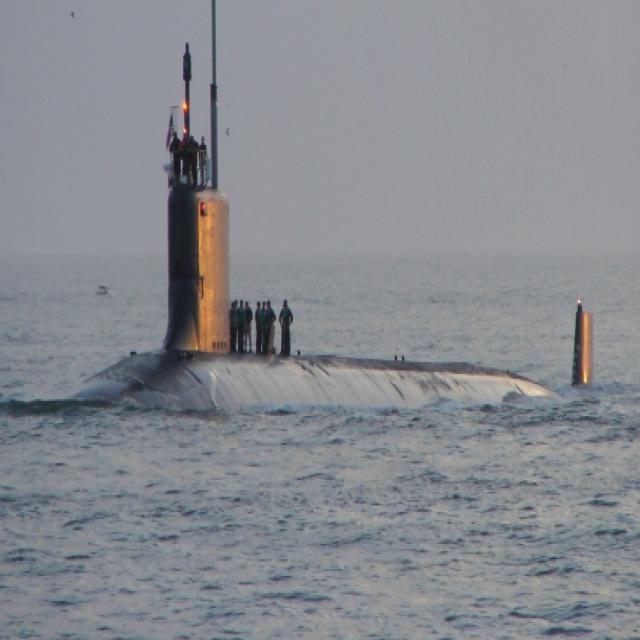submarine: (18, 1, 640, 425)
